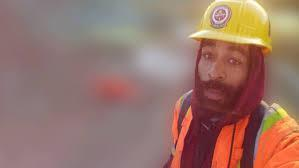helmet: (188, 0, 272, 55)
